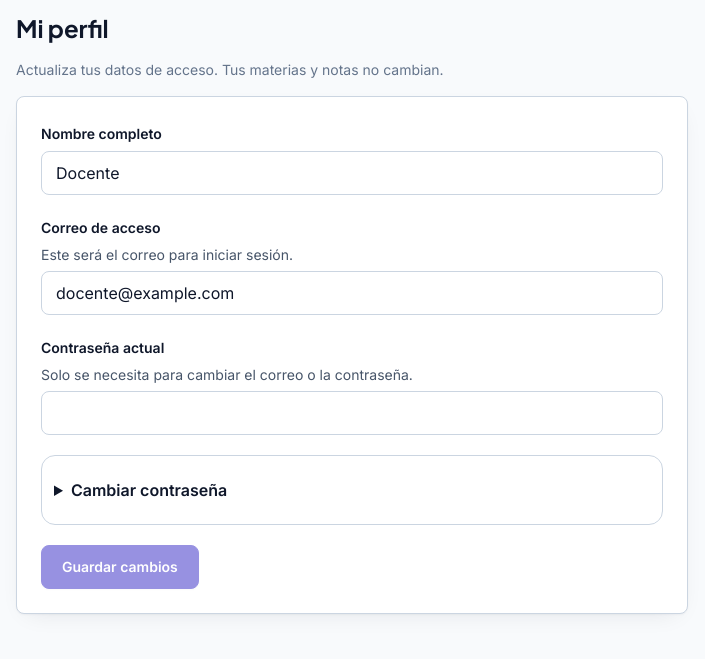
preserves the draft and session on an incorrect current password
Replace the text in the field labelled "Correo de acceso" with "nuevo@example.com" at (352, 293), box [41,271,663,315]
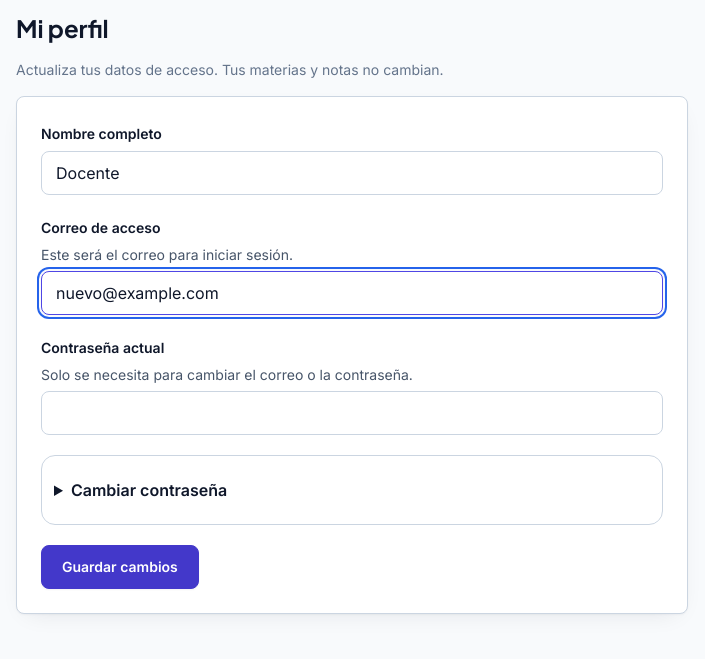
Type "Incorrecta" into the password field labelled "Contraseña actual" at (352, 413), box [41,391,663,435]
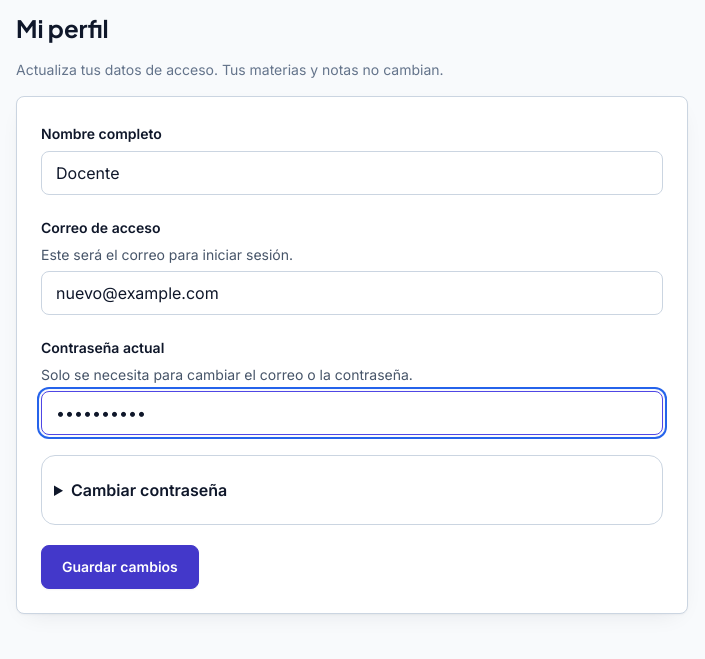
Click the button "Guardar cambios" at (120, 567), box [41,545,199,589]
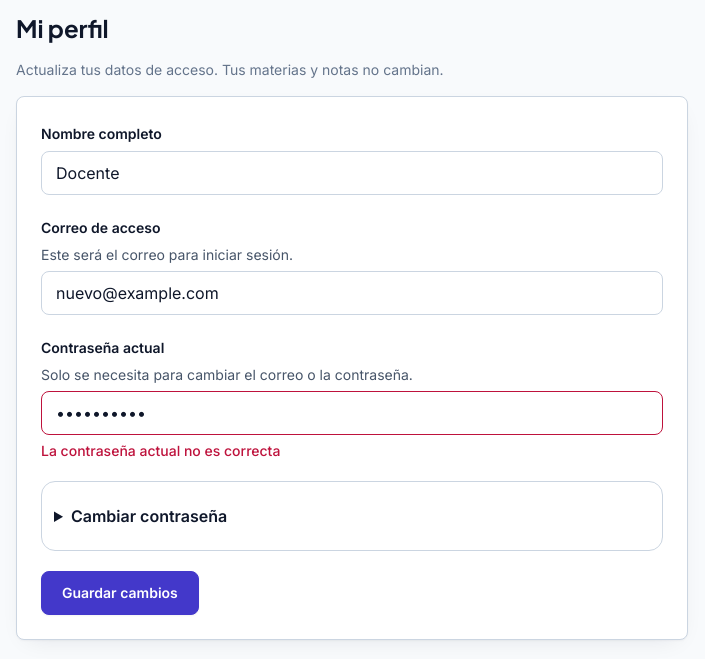
expect the message reads "La contraseña actual no es correcta": met, box [41,442,280,459]
